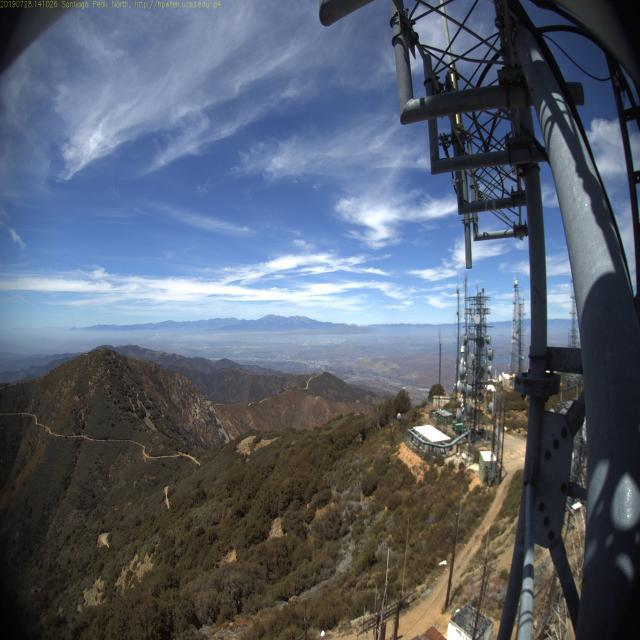smoke: (148, 331, 168, 349)
